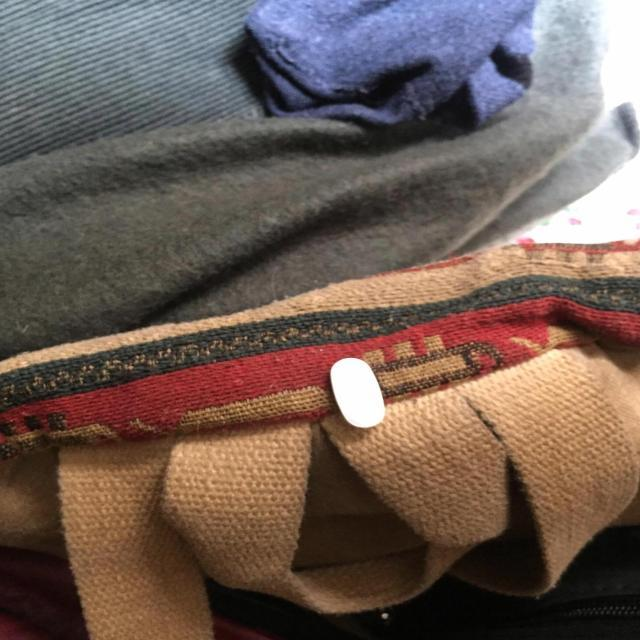pill: (324, 354, 394, 431)
